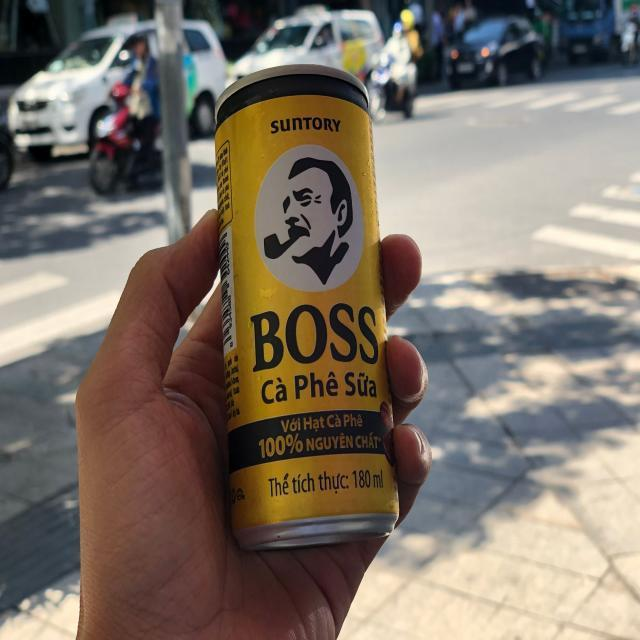kimloai: (218, 65, 399, 549)
